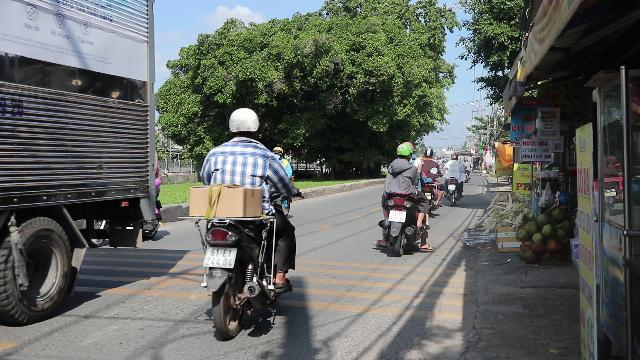helmet: (226, 106, 260, 142), (396, 142, 412, 158)
licenseplate: (204, 247, 236, 267), (388, 210, 406, 222)
motorcyclist: (187, 106, 303, 342), (373, 141, 431, 256)
